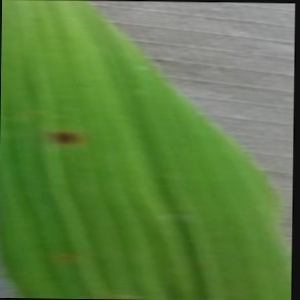Bacterial_Leaf_Blight: (42, 118, 89, 156)
